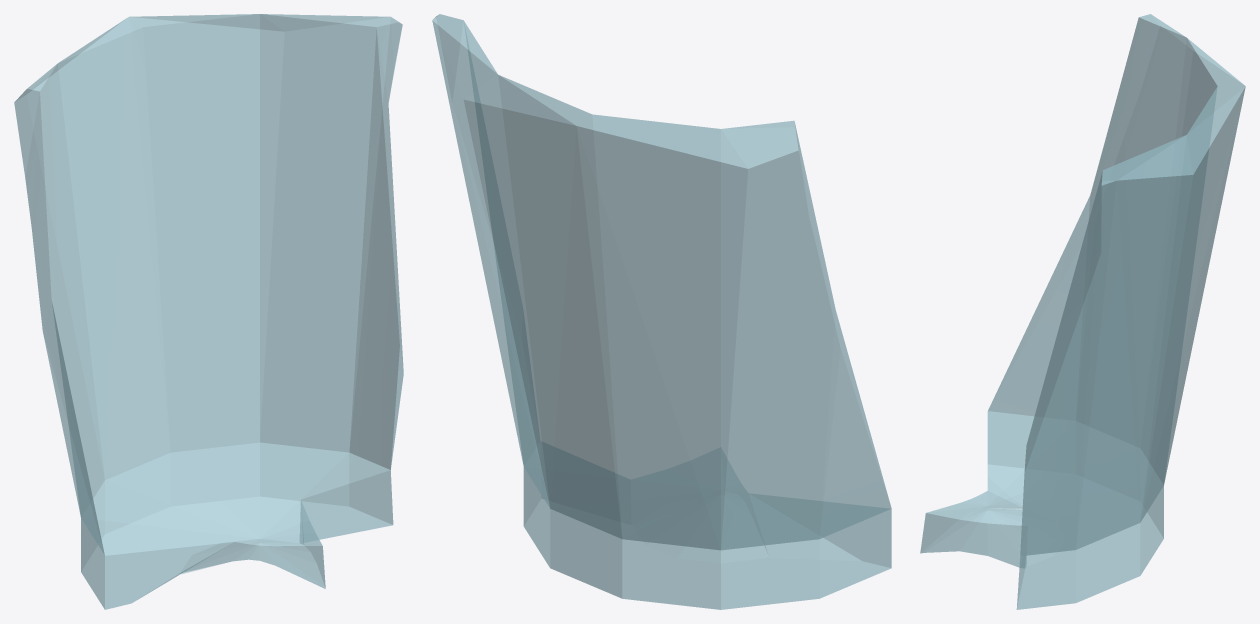
The model's file is shot-glass-fragment.fbx.
3 views of the same model, side by side, from view 1: azimuth 30°, elevation 25°; view 2: azimuth 150°, elevation 25°; view 3: azimuth 270°, elevation 25° (orthographic). The views are drawn at different scales.
Parts seen in each view (by area): view 1: shotGlass-2; view 2: shotGlass-2; view 3: shotGlass-2.
Part boxes in pixels (box(x1,y1,x2,y2)): shotGlass-2: box(14, 14, 403, 609); shotGlass-2: box(432, 14, 891, 609); shotGlass-2: box(920, 14, 1245, 609).
Bounding box in the file's own units: 14.08 × 17 × 11.08.
